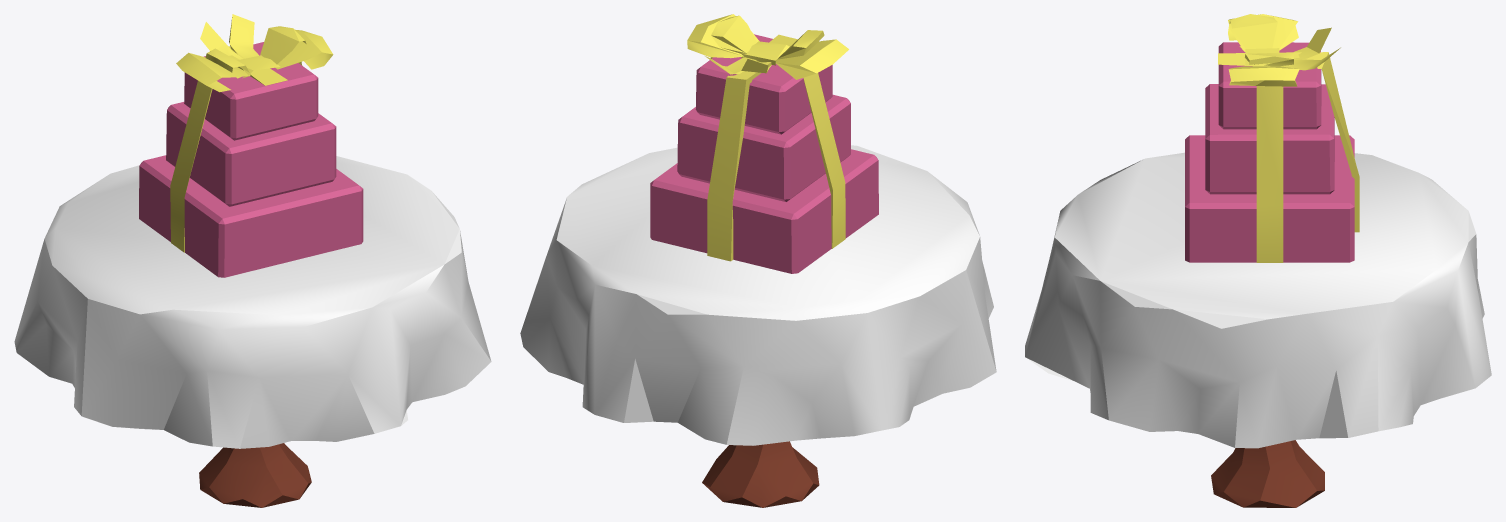
The model's file is wedding_gift_table.fbx.
3 views of the same model, side by side, from view 1: azimuth 30°, elevation 25°; view 2: azimuth 150°, elevation 25°; view 3: azimuth 270°, elevation 25° (orthographic). The views are drawn at different scales.
Parts seen in each view (by area): view 1: wedding_gift_table; view 2: wedding_gift_table; view 3: wedding_gift_table.
Boxes of the visible parts, left/top/right/bottom form: wedding_gift_table: left=14, top=14, right=491, bottom=507; wedding_gift_table: left=520, top=14, right=996, bottom=507; wedding_gift_table: left=1025, top=14, right=1491, bottom=507.
Size of the model in its own units: 11.73 by 12.7 by 11.95.
